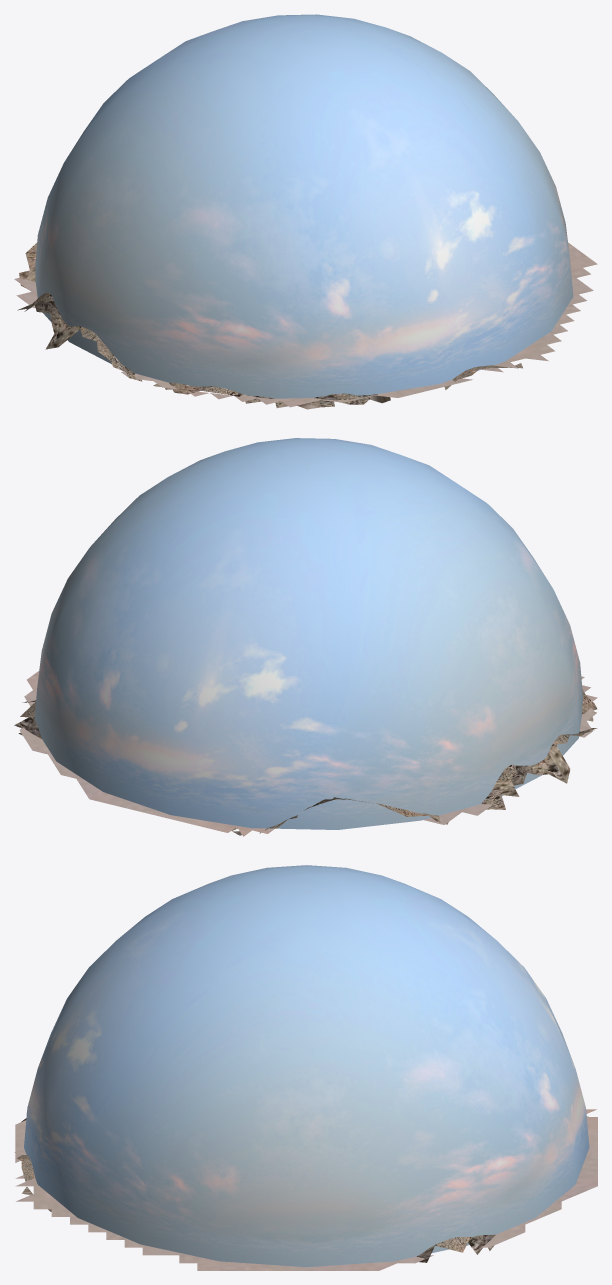
File: new_nero_environment_35.obj
3 views of the same model, one above another, from view 1: azimuth 30°, elevation 25°; view 2: azimuth 150°, elevation 25°; view 3: azimuth 270°, elevation 25° (orthographic). The views are drawn at different scales.
Visible parts, largest first — view 1: background_sphere, ground_plane, middle_hills_polygons; view 2: background_sphere, middle_hills_polygons, ground_plane; view 3: background_sphere, ground_plane, middle_hills_polygons.
Boxes of the visible parts, box(x1,y1,x2,y2) form: background_sphere: box(35, 14, 573, 398); ground_plane: box(14, 242, 597, 407); middle_hills_polygons: box(17, 242, 522, 409); background_sphere: box(34, 438, 583, 829); middle_hills_polygons: box(14, 689, 597, 835); ground_plane: box(19, 671, 597, 836); background_sphere: box(24, 865, 589, 1267); ground_plane: box(15, 1109, 597, 1270); middle_hills_polygons: box(14, 1113, 588, 1262).
Size of the model in its own units: 12922 by 6548 by 12583.
6 materials, 6 textured.
